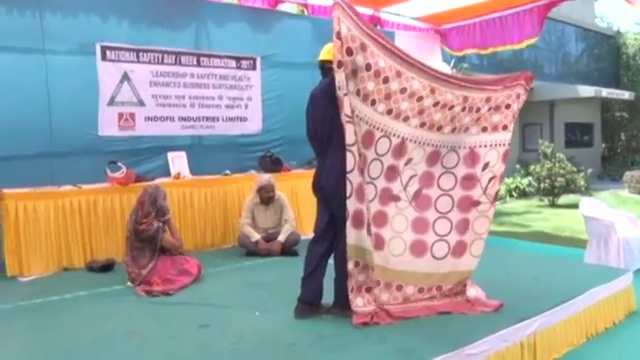helmet: (315, 41, 336, 63)
helmet_off: (139, 184, 171, 221), (255, 176, 276, 207)
helmet_on: (314, 40, 338, 78)
person: (299, 42, 352, 325), (119, 183, 202, 302), (234, 173, 298, 252)
